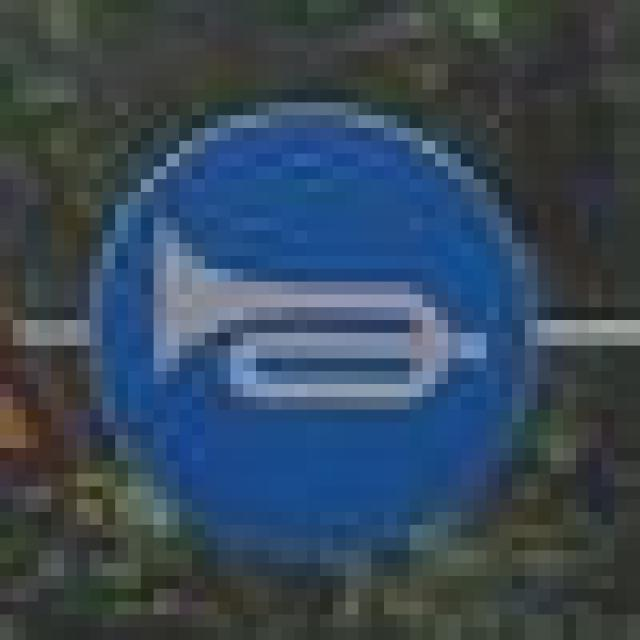compulsory_min_speed: (64, 77, 525, 563)
